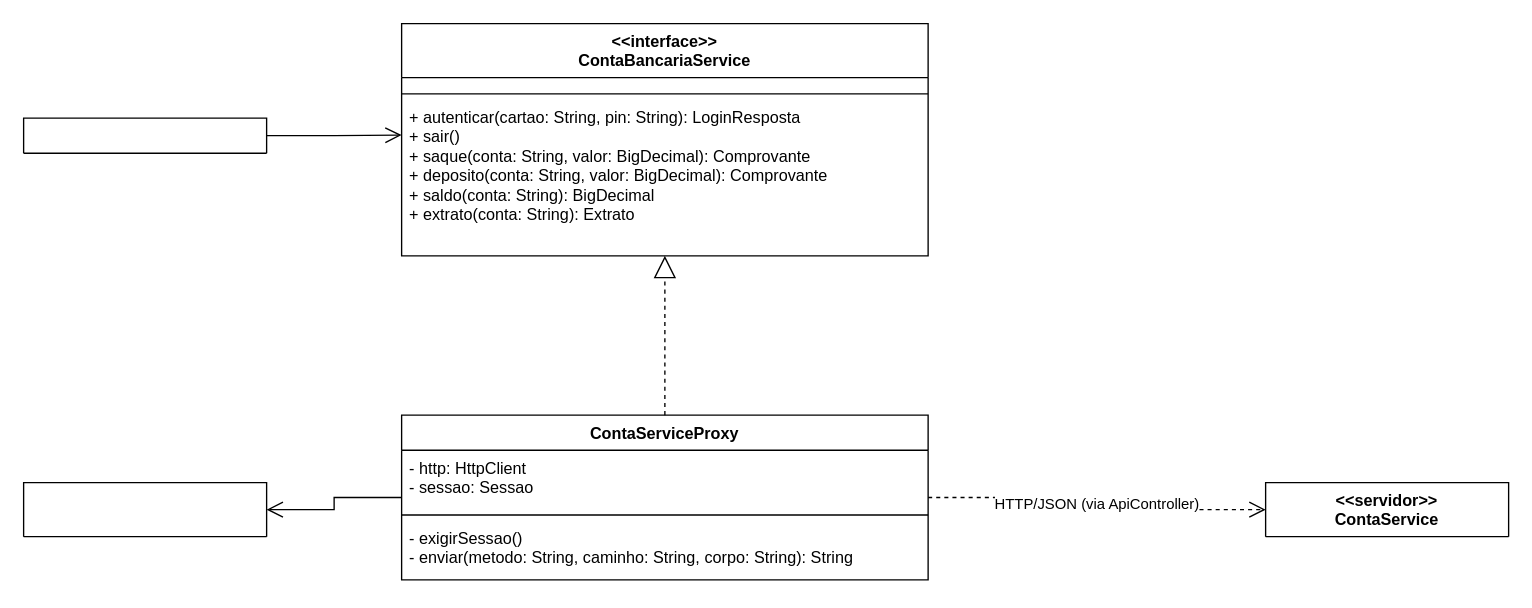
Some shapes in this 1532 by 608 pixel diagram are drawn without their labels. The shapes that lost their labels are listed below. From the top down, each one's centre as x and y in pixels, then its label:
pixel 144 135: MenuController
pixel 144 509: <<Singleton>> Sessao
